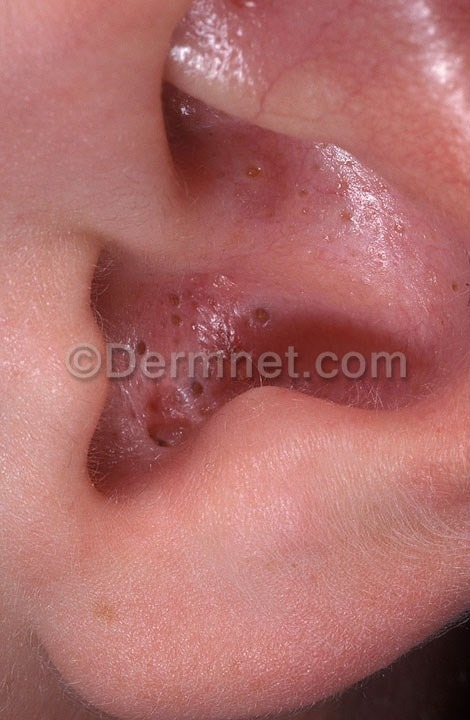Acne: (125, 269, 331, 467)
